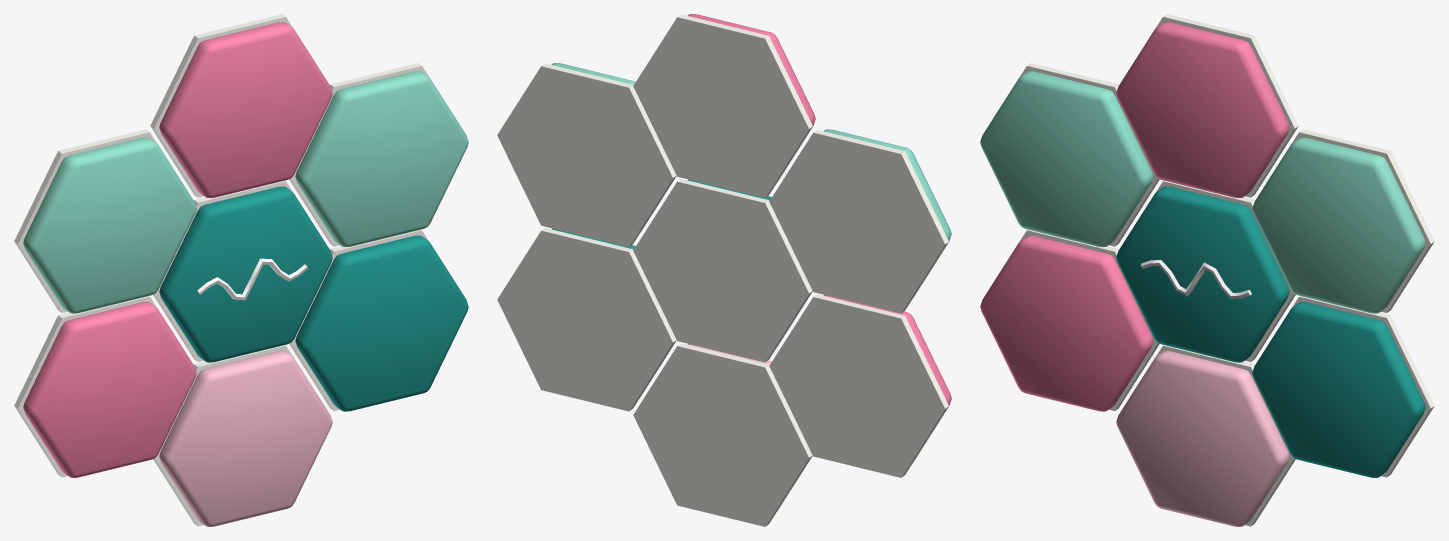
Rendered from sound_panel.glb.
3 views of the same model, side by side, from view 1: azimuth 30°, elevation 25°; view 2: azimuth 150°, elevation 25°; view 3: azimuth 330°, elevation 25° (orthographic).
Parts seen in each view (by area): view 1: SoundPanel; view 2: SoundPanel; view 3: SoundPanel.
Boxes of the visible parts, x1=… form: SoundPanel: x1=14, y1=14, x2=468, y2=526; SoundPanel: x1=497, y1=14, x2=951, y2=526; SoundPanel: x1=980, y1=14, x2=1434, y2=526.
Bounding box in the file's own units: 1.33 × 1.39 × 0.0816.
